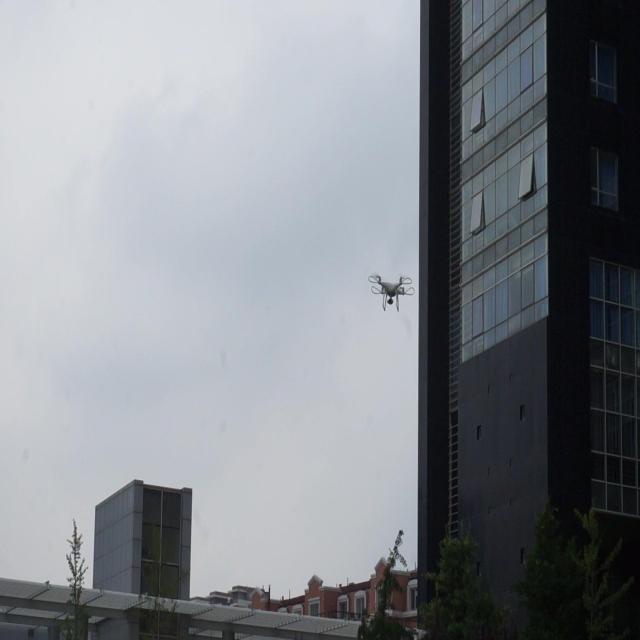drone: (366, 268, 416, 316)
